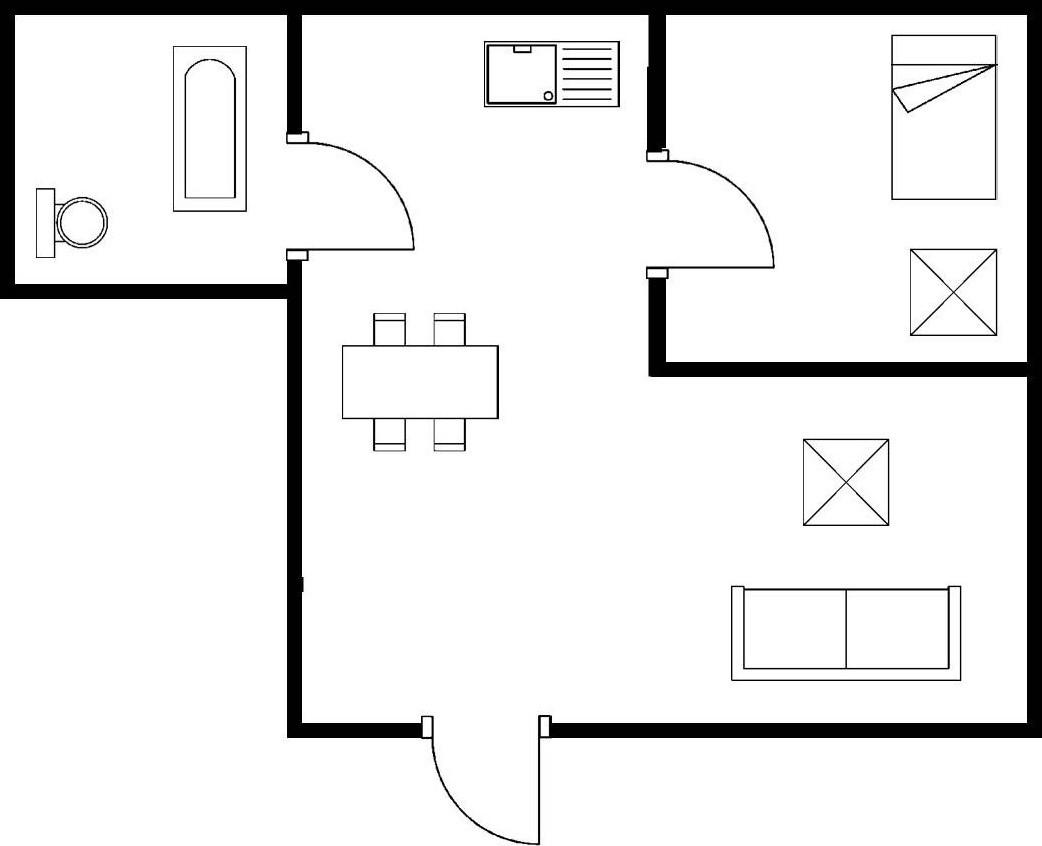bed: (884, 29, 1002, 205)
dining_table: (336, 307, 505, 456)
sink: (480, 35, 624, 112)
sofa: (727, 580, 967, 684)
toilet: (29, 183, 110, 263)
tub: (163, 40, 253, 216)
